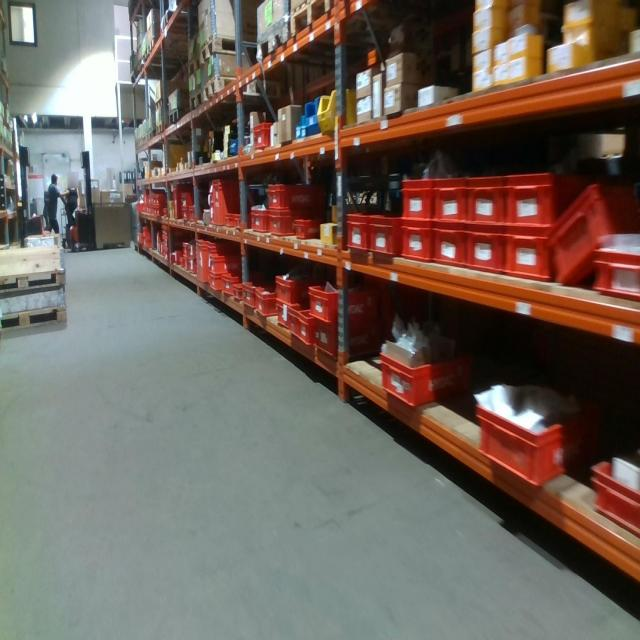pallet: (0, 270, 65, 302), (199, 34, 256, 68), (1, 311, 68, 336), (287, 3, 331, 41), (203, 73, 248, 107), (258, 19, 292, 62), (159, 14, 178, 36), (170, 106, 185, 128), (146, 34, 158, 56), (187, 50, 199, 71), (191, 90, 201, 113), (154, 121, 168, 137), (154, 98, 167, 112), (138, 49, 146, 69)
pallet_truck: (17, 141, 52, 236), (67, 144, 96, 253)
small_load_carrier: (472, 389, 604, 488), (552, 179, 639, 290), (380, 342, 482, 412), (589, 453, 639, 539), (505, 161, 557, 228), (591, 243, 639, 307), (502, 223, 553, 282), (308, 285, 381, 324), (463, 172, 508, 222), (316, 317, 362, 364), (431, 222, 472, 271), (467, 225, 505, 277), (212, 178, 248, 231), (366, 212, 404, 261), (396, 174, 434, 217), (399, 217, 431, 268), (266, 178, 317, 210), (431, 181, 467, 222), (206, 245, 238, 289), (273, 271, 306, 309), (344, 216, 373, 251), (255, 289, 284, 319), (292, 211, 320, 242), (197, 237, 213, 287), (269, 210, 295, 237), (273, 300, 296, 330), (297, 307, 312, 345), (251, 120, 270, 149), (248, 209, 267, 234), (208, 255, 231, 275), (220, 271, 236, 298), (232, 280, 246, 309), (244, 285, 258, 309), (290, 306, 300, 334), (189, 204, 201, 224), (207, 277, 221, 294), (172, 191, 180, 219), (224, 212, 235, 232), (179, 189, 189, 207), (233, 212, 244, 228), (188, 257, 196, 275), (180, 205, 190, 218), (183, 240, 190, 258), (187, 243, 196, 256), (183, 258, 189, 271)
